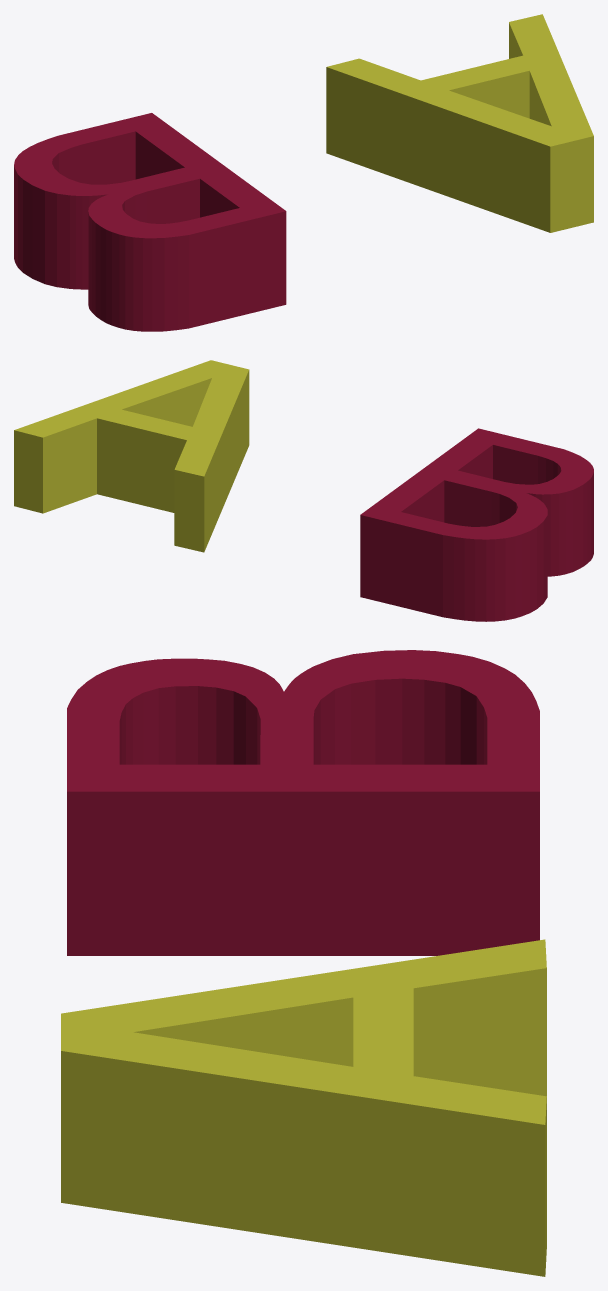
Rendered from Would you rather.fbx.
3 views of the same model, one above another, from view 1: azimuth 30°, elevation 25°; view 2: azimuth 150°, elevation 25°; view 3: azimuth 270°, elevation 25° (orthographic). The views are drawn at different scales.
Visible parts, largest first — view 1: Plane, Plane.001; view 2: Plane, Plane.001; view 3: Plane, Plane.001.
Boxes of the visible parts, x1,y1,x2,y2 form: Plane: [14, 113, 286, 331]; Plane.001: [326, 14, 593, 232]; Plane: [360, 428, 593, 621]; Plane.001: [14, 360, 249, 552]; Plane: [67, 650, 539, 955]; Plane.001: [61, 939, 546, 1276].
Bounding box in the file's own units: 996 × 163 × 428.
